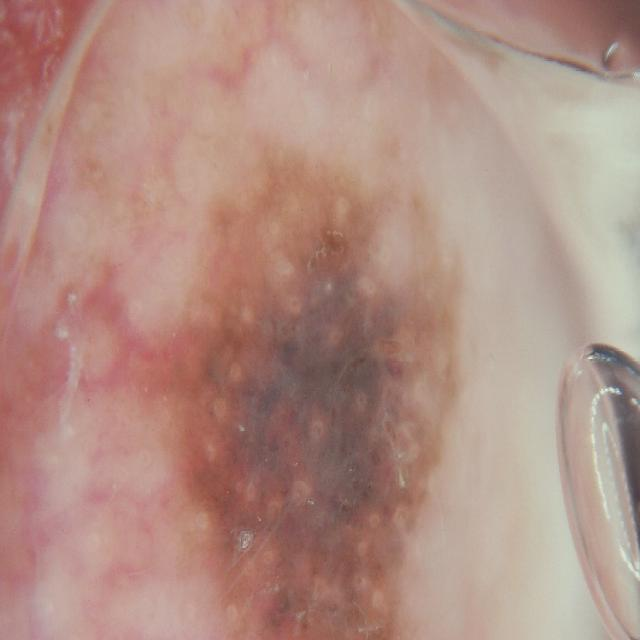Melanoma: (86, 153, 485, 640)
